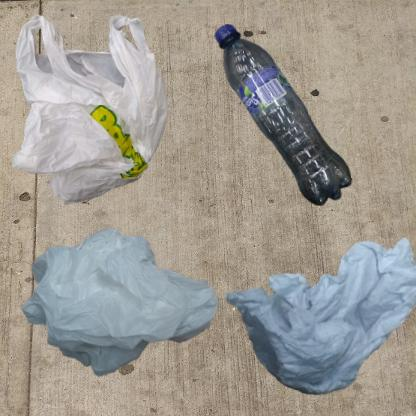bolsa: (10, 213, 243, 409), (10, 10, 172, 209)
botella: (213, 10, 362, 229)
papel: (213, 213, 416, 412)
